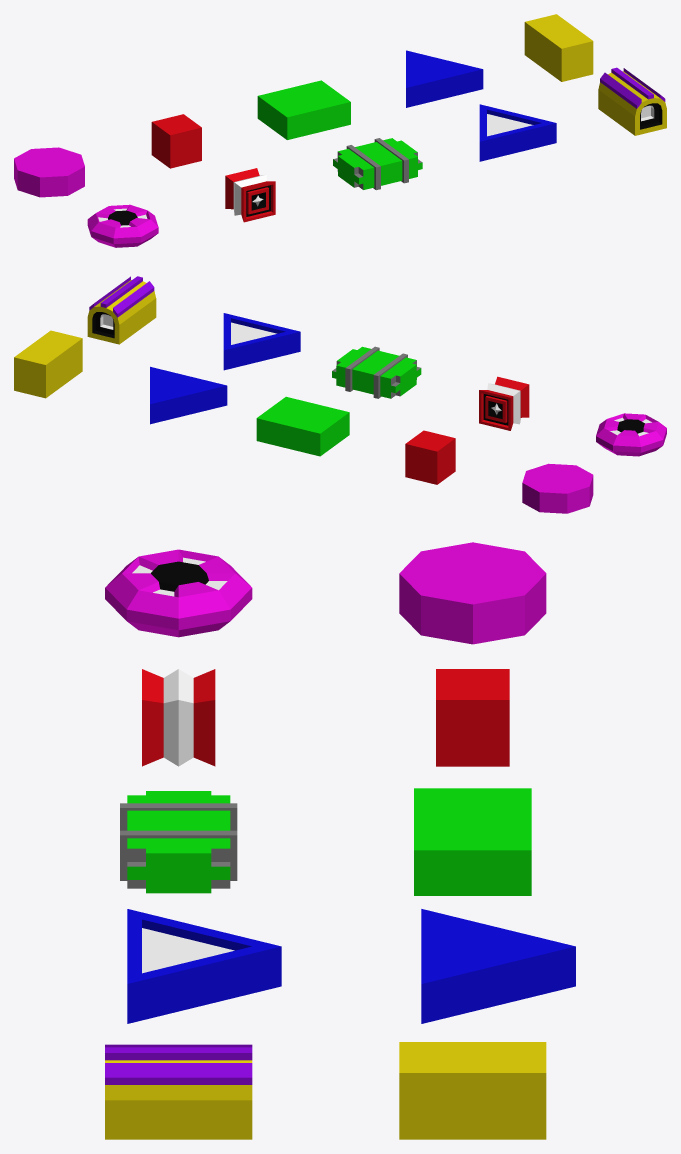
File: Valises_base_nice1.fbx
3 views of the same model, one above another, from view 1: azimuth 30°, elevation 25°; view 2: azimuth 150°, elevation 25°; view 3: azimuth 270°, elevation 25° (orthographic). The views are drawn at different scales.
Parts seen in each view (by area): view 1: rectangle_base, cylindre_long_base, rectangle_nice, cylindre_long_nice, Cylinder_base, triangle_nice, triangle_base, Cylinder_nice, cube_base, cube_nice; view 2: rectangle_base, cylindre_long_base, rectangle_nice, cylindre_long_nice, Cylinder_base, triangle_nice, triangle_base, Cylinder_nice, cube_base, cube_nice; view 3: cylindre_long_base, cylindre_long_nice, rectangle_base, Cylinder_base, triangle_base, triangle_nice, rectangle_nice, Cylinder_nice, cube_base, cube_nice.
Boxes of the visible parts, left/top/right/bottom form: rectangle_base: left=257, top=80, right=350, bottom=139; cylindre_long_base: left=524, top=14, right=593, bottom=81; rectangle_nice: left=333, top=138, right=422, bottom=190; cylindre_long_nice: left=598, top=67, right=666, bottom=135; Cylinder_base: left=14, top=147, right=84, bottom=197; triangle_nice: left=479, top=104, right=556, bottom=161; triangle_base: left=406, top=50, right=483, bottom=107; Cylinder_nice: left=87, top=204, right=158, bottom=247; cube_base: left=151, top=114, right=201, bottom=168; cube_nice: left=225, top=168, right=275, bottom=222; rectangle_base: left=256, top=396, right=349, bottom=456; cylindre_long_base: left=14, top=330, right=82, bottom=398; rectangle_nice: left=332, top=346, right=421, bottom=398; cylindre_long_nice: left=87, top=276, right=156, bottom=344; Cylinder_base: left=522, top=463, right=593, bottom=513; triangle_nice: left=223, top=313, right=300, bottom=370; triangle_base: left=150, top=366, right=227, bottom=424; Cylinder_nice: left=596, top=413, right=666, bottom=456; cube_base: left=405, top=430, right=455, bottom=484; cube_nice: left=479, top=376, right=529, bottom=430; cylindre_long_base: left=399, top=1042, right=546, bottom=1139; cylindre_long_nice: left=105, top=1044, right=252, bottom=1139; rectangle_base: left=414, top=788, right=531, bottom=895; Cylinder_base: left=399, top=542, right=546, bottom=644; triangle_base: left=421, top=909, right=575, bottom=1023; triangle_nice: left=127, top=909, right=281, bottom=1023; rectangle_nice: left=120, top=791, right=237, bottom=893; Cylinder_nice: left=105, top=549, right=252, bottom=637; cube_base: left=436, top=669, right=509, bottom=766; cube_nice: left=142, top=669, right=215, bottom=766.
Bounding box in the file's own units: 875 × 55.42 × 320.
